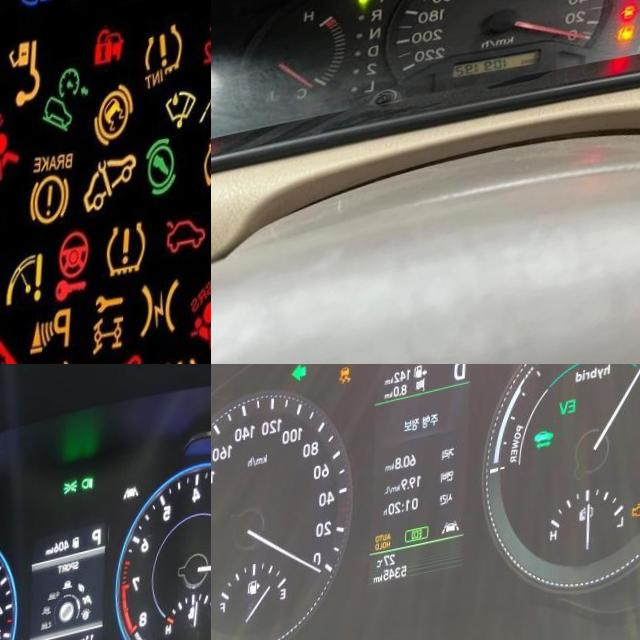LaneCenteringOff: (447, 531, 467, 549)
Low beam: (85, 487, 97, 503)
SideLamp: (66, 489, 82, 506)
